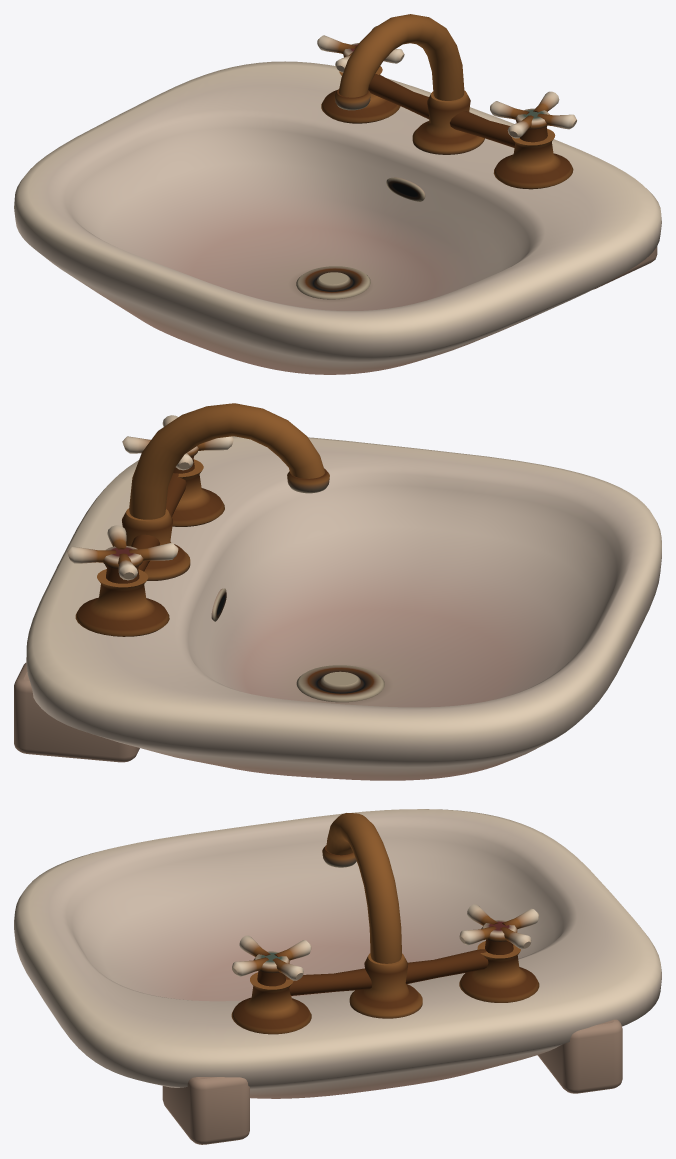
File: SM_BunkerWashbasin.fbx
3 views of the same model, one above another, from view 1: azimuth 30°, elevation 25°; view 2: azimuth 150°, elevation 25°; view 3: azimuth 270°, elevation 25° (orthographic). The views are drawn at different scales.
Parts seen in each view (by area): view 1: SM_BunkerWashbasin; view 2: SM_BunkerWashbasin; view 3: SM_BunkerWashbasin.
Part boxes in pixels (box(x1,y1,x2,y2)): SM_BunkerWashbasin: box(14, 14, 661, 374); SM_BunkerWashbasin: box(14, 403, 661, 780); SM_BunkerWashbasin: box(14, 809, 661, 1144).
Size of the model in its own units: 52.71 by 56.13 by 27.56.
